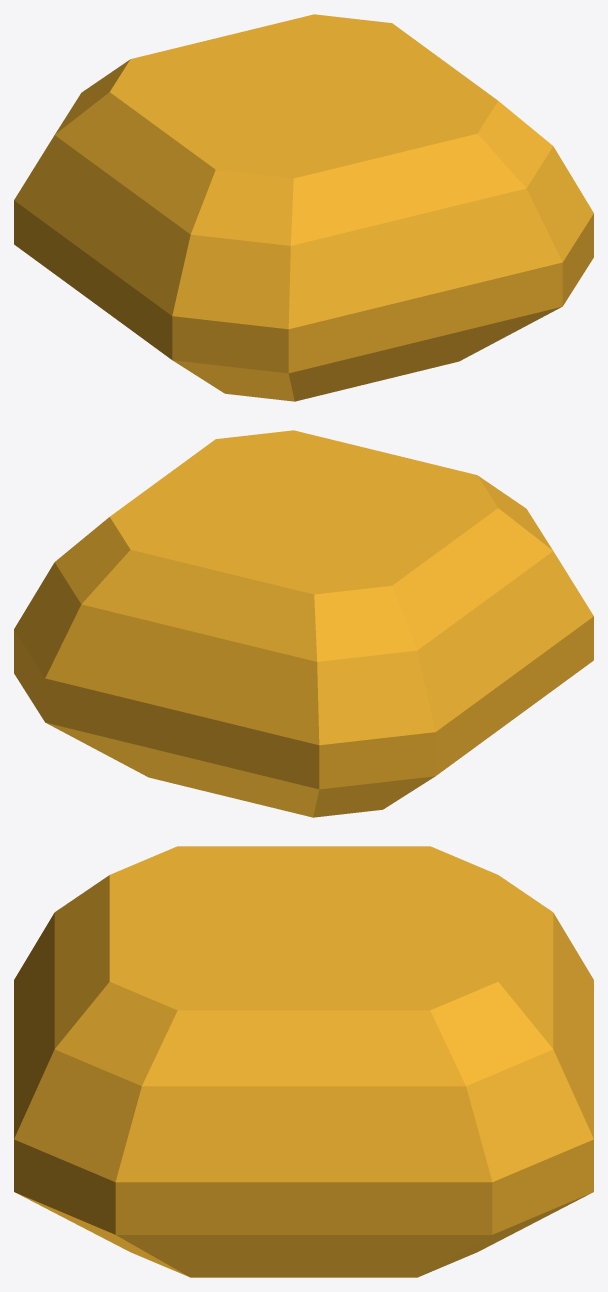
The model's file is SM_Topaz_Flawless.fbx.
The picture shows the model from 3 angles, top to bottom: view 1: azimuth 30°, elevation 25°; view 2: azimuth 150°, elevation 25°; view 3: azimuth 270°, elevation 25°; orthographic projection. The views are drawn at different scales.
Visible parts, largest first — view 1: SM_Topaz_Flawless; view 2: SM_Topaz_Flawless; view 3: SM_Topaz_Flawless.
Boxes of the visible parts, <box> form: SM_Topaz_Flawless: <box>14,14,593,401</box>; SM_Topaz_Flawless: <box>14,430,593,817</box>; SM_Topaz_Flawless: <box>14,846,593,1277</box>.
Size of the model in its own units: 20 by 20 by 12.5.
